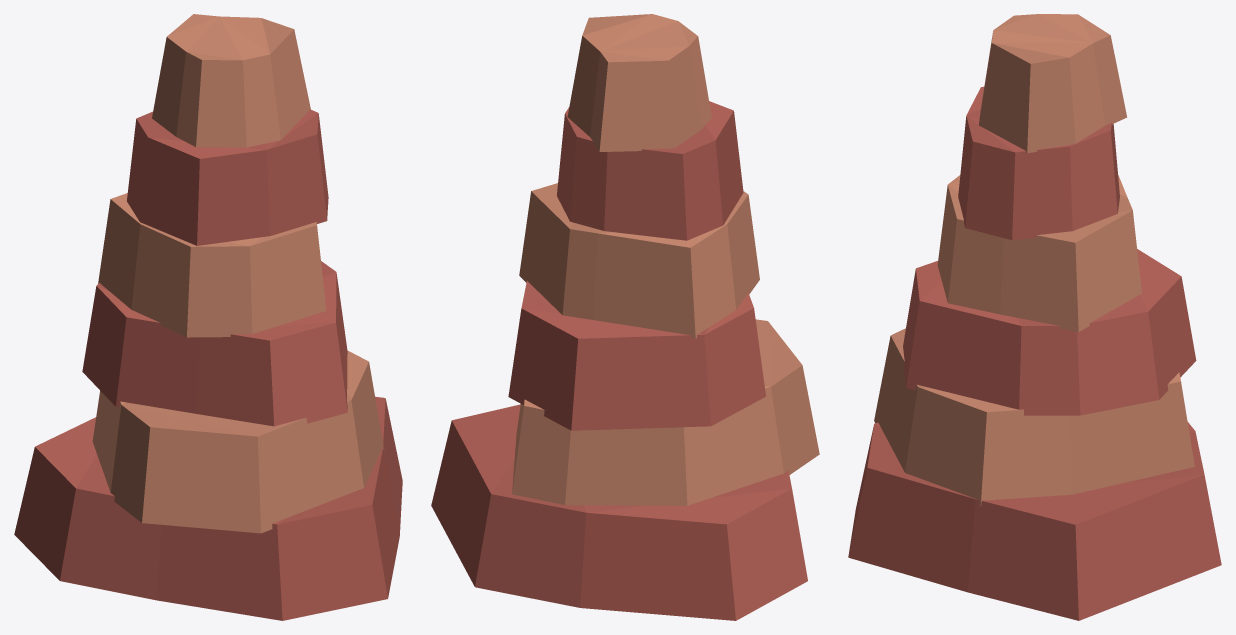
The model's file is Rock_Mesa_A.fbx.
3 renders of one model, left to right at view 1: azimuth 30°, elevation 25°; view 2: azimuth 150°, elevation 25°; view 3: azimuth 270°, elevation 25°, orthographic.
Parts seen in each view (by area): view 1: Rock_Mesa_A; view 2: Rock_Mesa_A; view 3: Rock_Mesa_A.
Boxes of the visible parts, <box> form: Rock_Mesa_A: <box>14,14,402,620</box>; Rock_Mesa_A: <box>431,14,819,620</box>; Rock_Mesa_A: <box>848,14,1221,620</box>.
Size of the model in its own units: 19.5 by 26 by 17.84.
